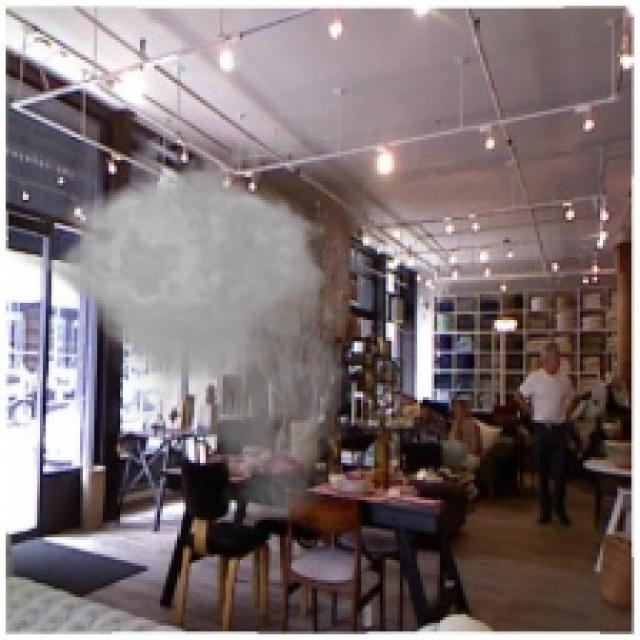Smoke: (11, 120, 363, 529)
